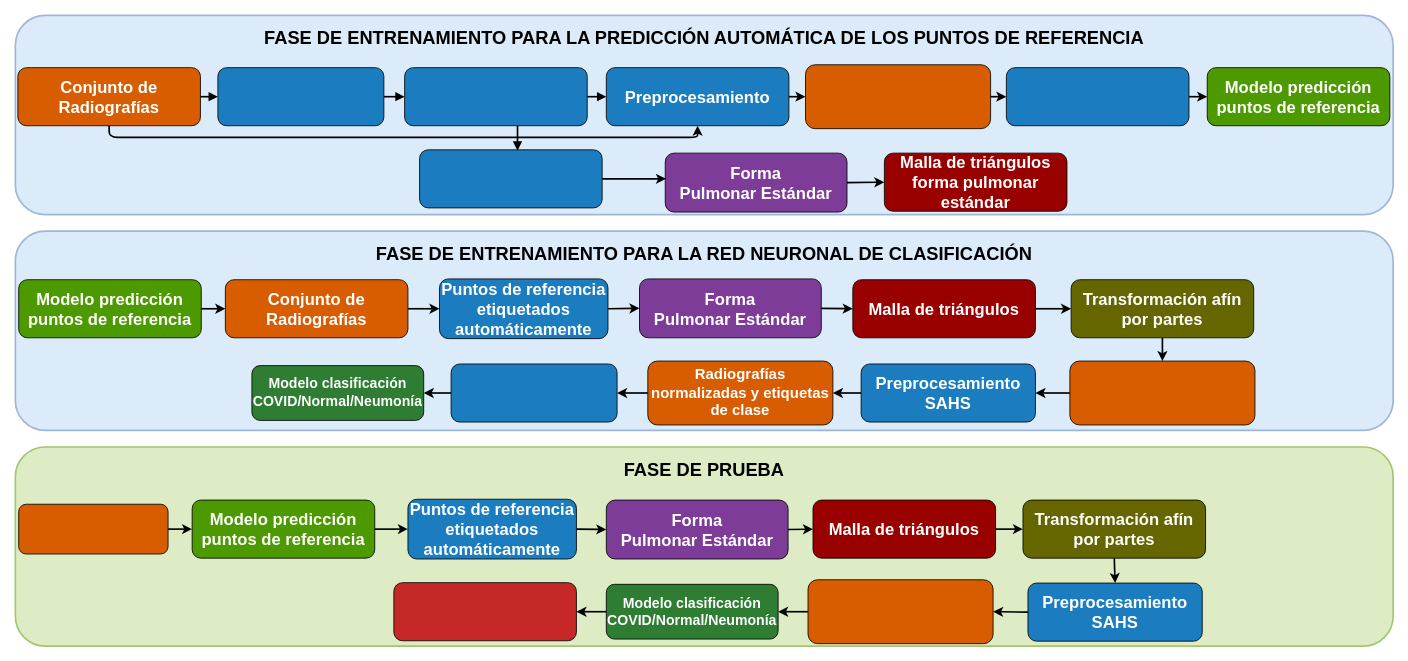
This 1408x661 diagram has some shape labels left out. The shapes that lost their labels are listed below. From the top down, each one's box as (x1, y1, x2, y2) in pixels, then its label:
(217, 67, 384, 126): Anotación Manual
(404, 67, 587, 126): Puntos de referencia etiquetados
(805, 64, 991, 129): Radiografías y coordenadas preprocesadas
(1006, 67, 1189, 126): Red Neuronal 1
(419, 149, 602, 208): Análisis Procrustes
(450, 363, 617, 422): Red Neuronal 2
(1069, 360, 1255, 425): Conjunto de radiografías normalizadas geométricamente
(18, 503, 168, 554): Imagen Entrada
(393, 582, 576, 641): Clasificación
(807, 579, 993, 644): Radiografía normalizada y etiquetas de clase
